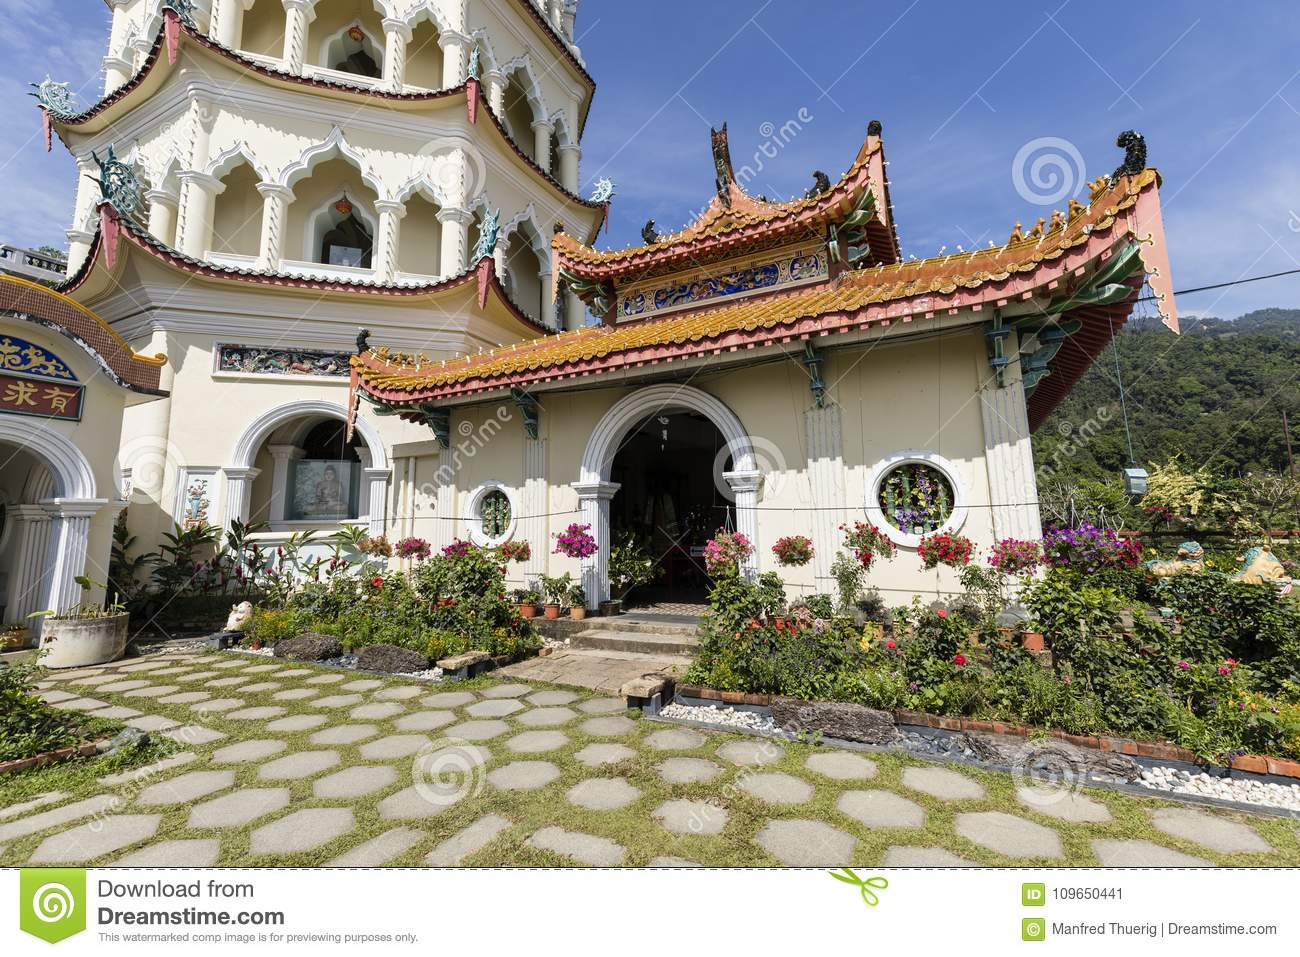Buddhist Temple: (41, 7, 1119, 601)
